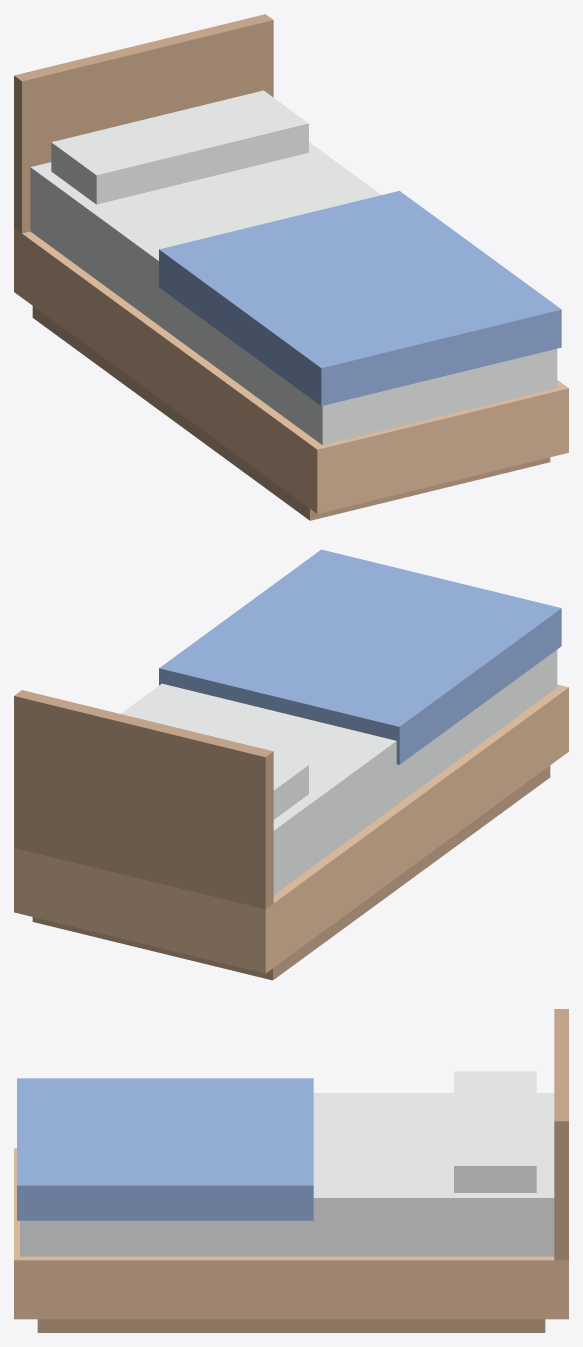
File: bedSinglePlatform.glb
3 views of the same model, one above another, from view 1: azimuth 30°, elevation 25°; view 2: azimuth 150°, elevation 25°; view 3: azimuth 270°, elevation 25° (orthographic). The views are drawn at different scales.
Visible parts, largest first — view 1: bedSinglePlatform; view 2: bedSinglePlatform; view 3: bedSinglePlatform.
Boxes of the visible parts, x1,y1,x2,y2 form: bedSinglePlatform: [14, 14, 568, 520]; bedSinglePlatform: [14, 549, 568, 980]; bedSinglePlatform: [14, 1009, 568, 1332].
Bounding box in the file's own units: 0.45 × 0.4 × 0.94.
